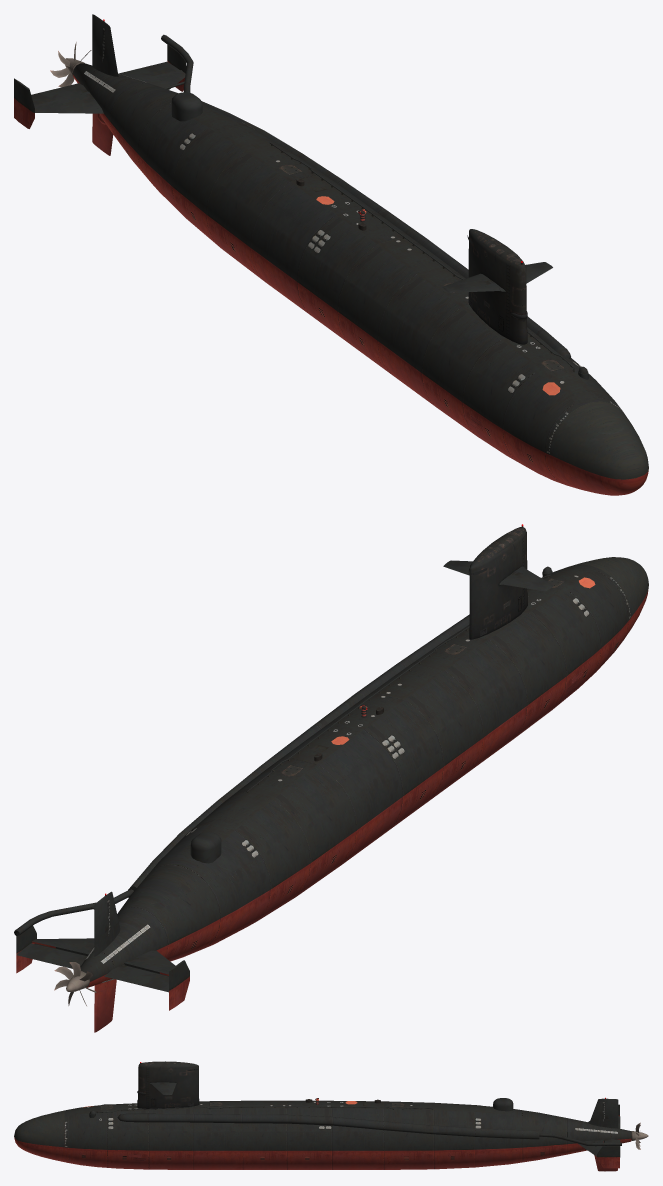
File: qst.glb
3 views of the same model, one above another, from view 1: azimuth 30°, elevation 25°; view 2: azimuth 150°, elevation 25°; view 3: azimuth 270°, elevation 25° (orthographic). The views are drawn at different scales.
Visible parts, largest first — view 1: usn; view 2: usn; view 3: usn.
Boxes of the visible parts, bbox=[...] form: usn: bbox=[14, 14, 648, 495]; usn: bbox=[14, 524, 648, 1032]; usn: bbox=[14, 1061, 648, 1171].
Size of the model in its own units: 22.34 by 27.11 by 143.
1 material, 1 textured.
